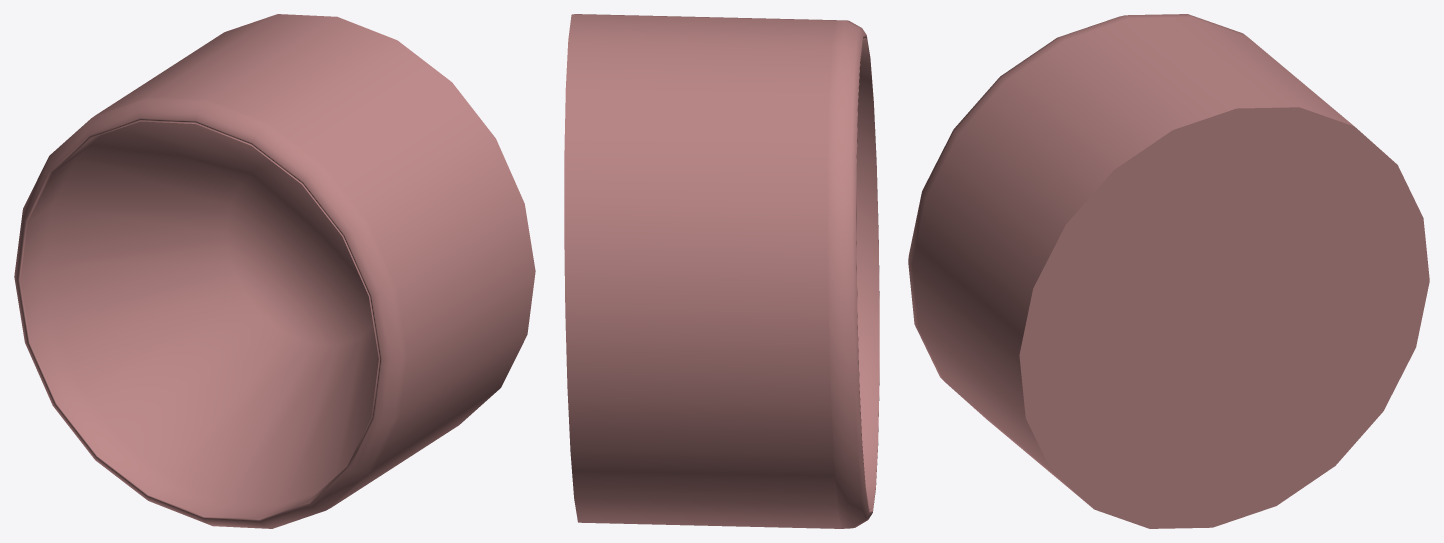
The model's file is BL4_8shapes_Round_Classic_Metal.001 2.glb.
The picture shows the model from 3 angles, left to right: view 1: azimuth 30°, elevation 25°; view 2: azimuth 150°, elevation 25°; view 3: azimuth 270°, elevation 25°; orthographic projection. The views are drawn at different scales.
Visible parts, largest first — view 1: BL4_8shapes_Round_Classic_Metal.001; view 2: BL4_8shapes_Round_Classic_Metal.001; view 3: BL4_8shapes_Round_Classic_Metal.001.
Boxes of the visible parts, box(x1,y1,x2,y2) form: BL4_8shapes_Round_Classic_Metal.001: box(14, 14, 535, 528); BL4_8shapes_Round_Classic_Metal.001: box(564, 14, 879, 528); BL4_8shapes_Round_Classic_Metal.001: box(908, 14, 1429, 528).
Bounding box in the file's own units: 0.5266 × 0.5479 × 0.6155.
